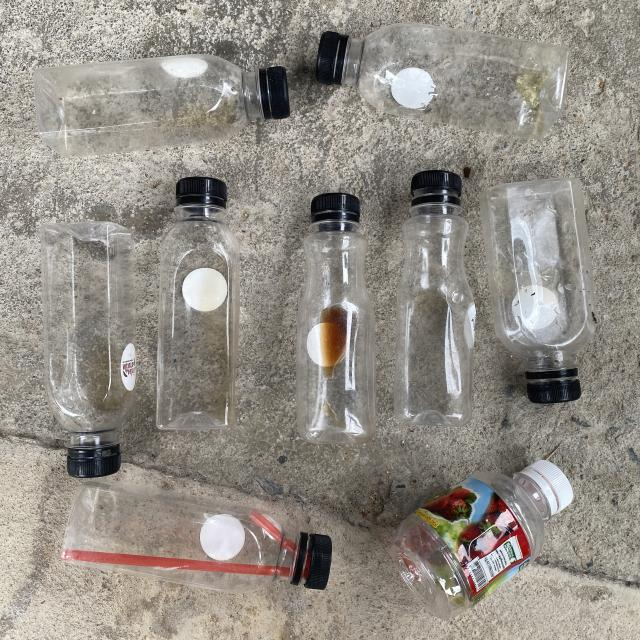plastik: (61, 481, 331, 592), (390, 460, 574, 619), (316, 24, 569, 139), (34, 55, 289, 158), (480, 179, 596, 404), (41, 221, 136, 478), (156, 176, 239, 430), (395, 171, 475, 426), (296, 192, 376, 444)
